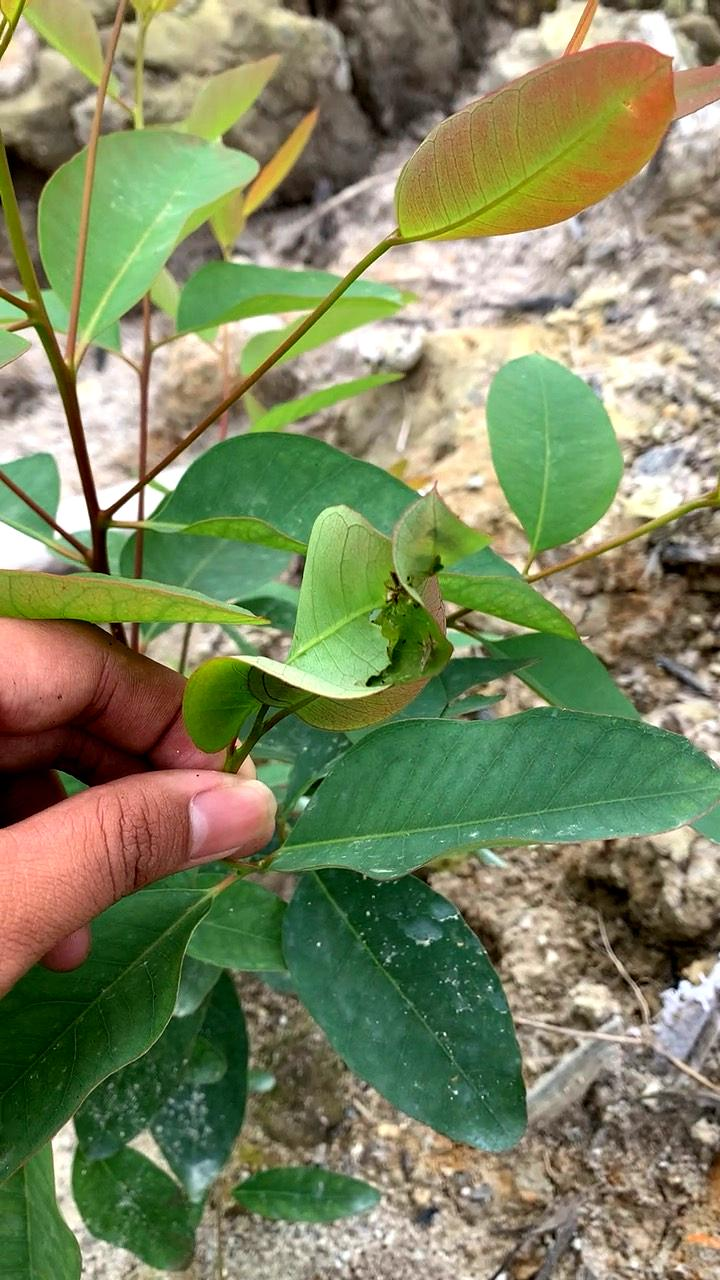Leaf Roller - Leaf: (155, 473, 496, 838)
